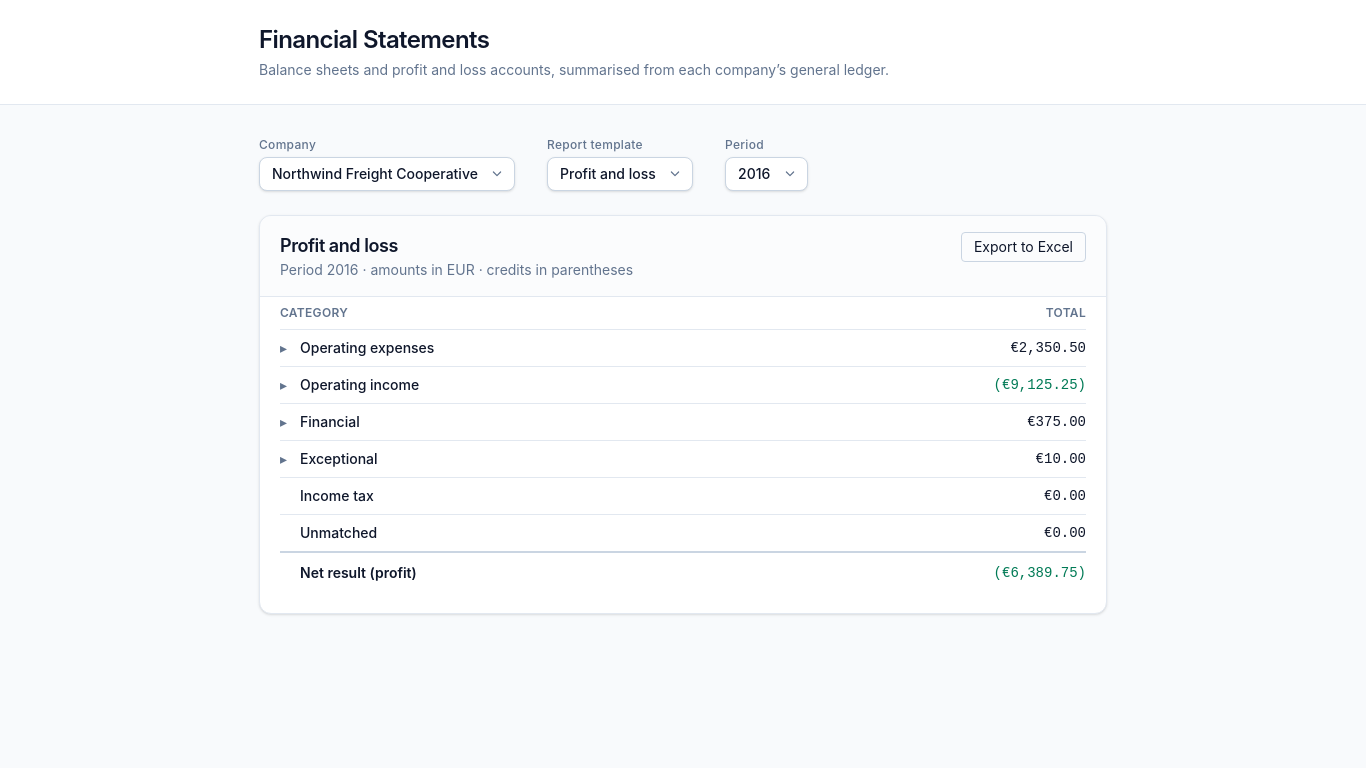
Test case: an Account shows both its AccountCode and its name, with its total
The image size is (1366, 768).
Click the button "Operating expenses". click: {"x": 357, "y": 348}
box: top-left (280, 338), bottom-right (434, 358)
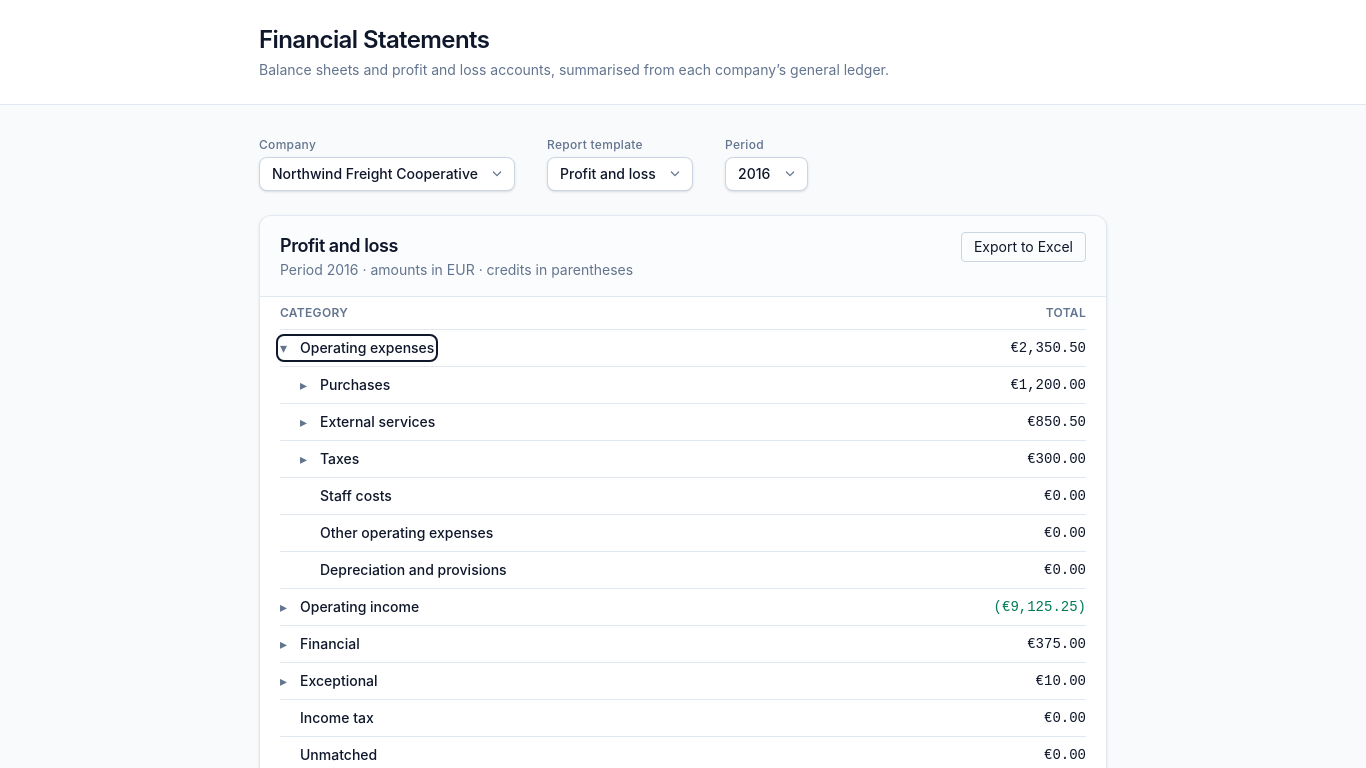
Click the button "External services". click: {"x": 368, "y": 422}
box: top-left (300, 412), bottom-right (435, 432)
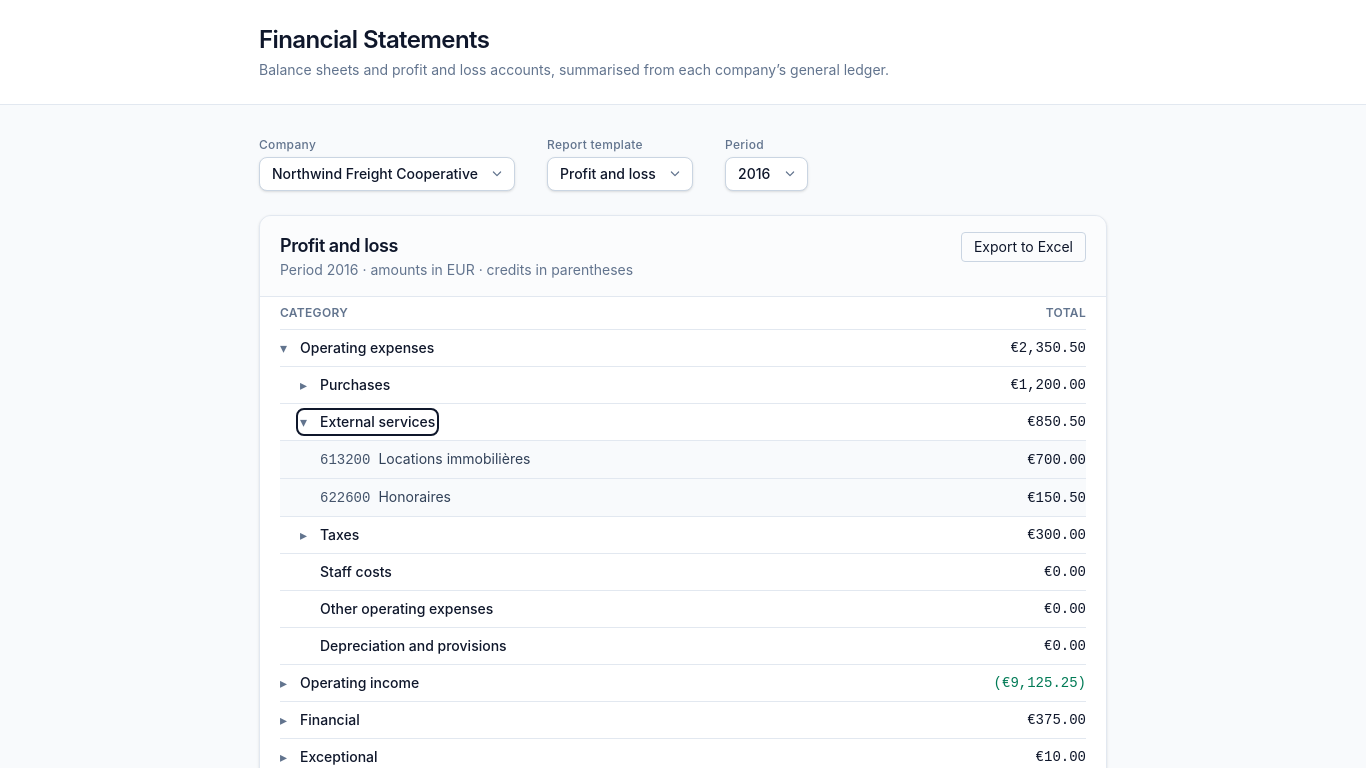
Now the row "613200Locations immobilières €700.00" is shown, box top-left (280, 440), bottom-right (1086, 478)
